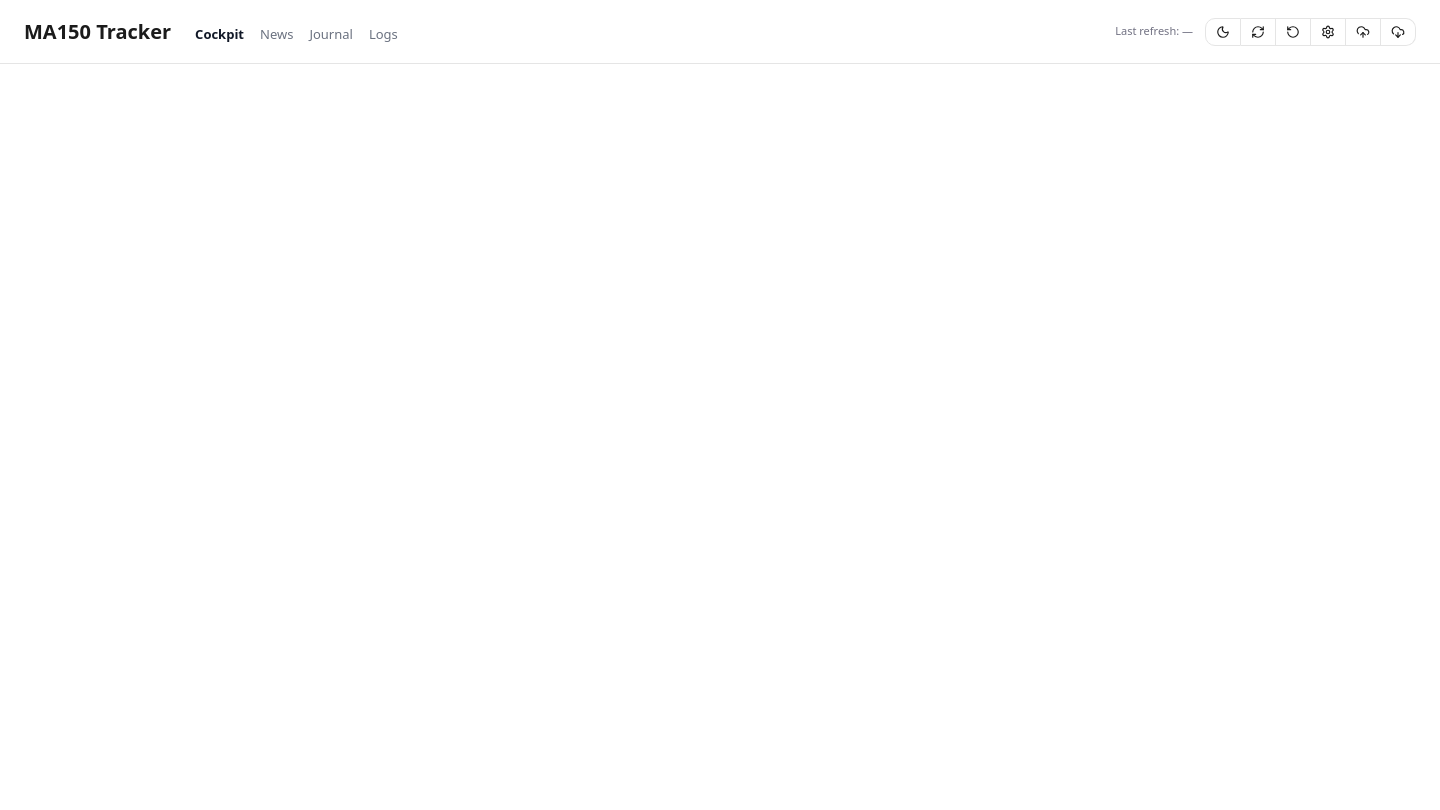
Test: S13 – settings dialog open/close via TopNav › clicking Settings opens the dialog
Click the button named "用户设置" at (1328, 32), box [1311, 18, 1346, 46]
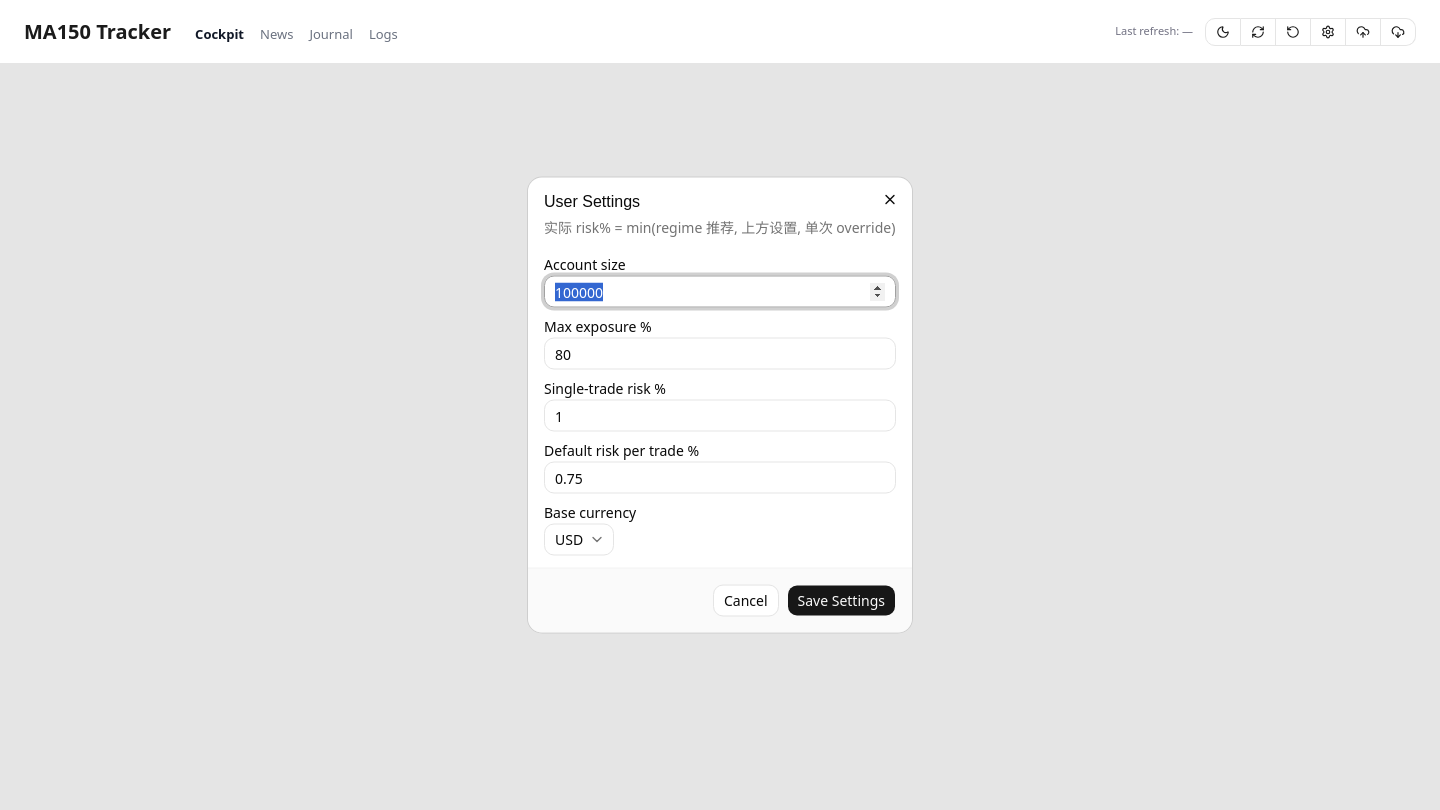
Result: the heading "User Settings" is shown at [544, 192, 640, 210]
